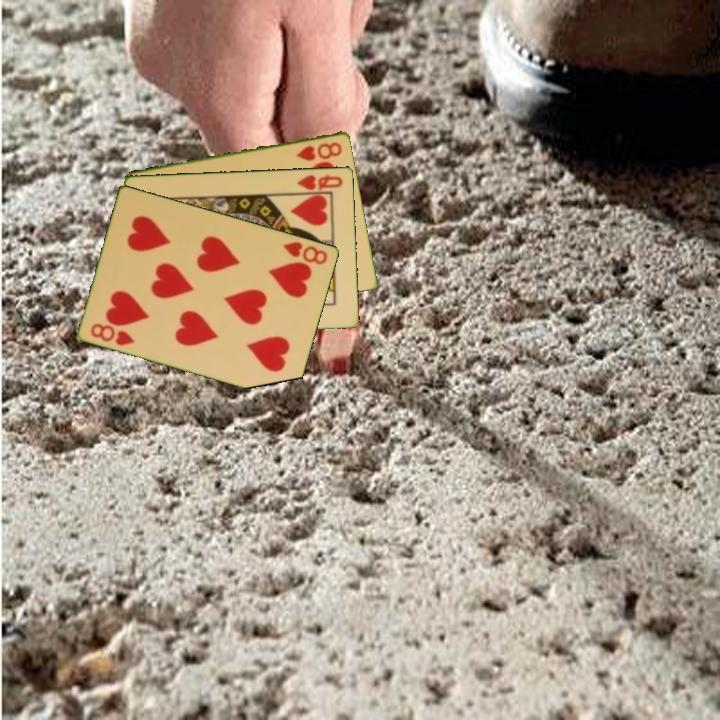8h: (280, 238, 331, 267), (88, 319, 138, 348), (293, 138, 345, 163)
Qh: (294, 171, 346, 193)
